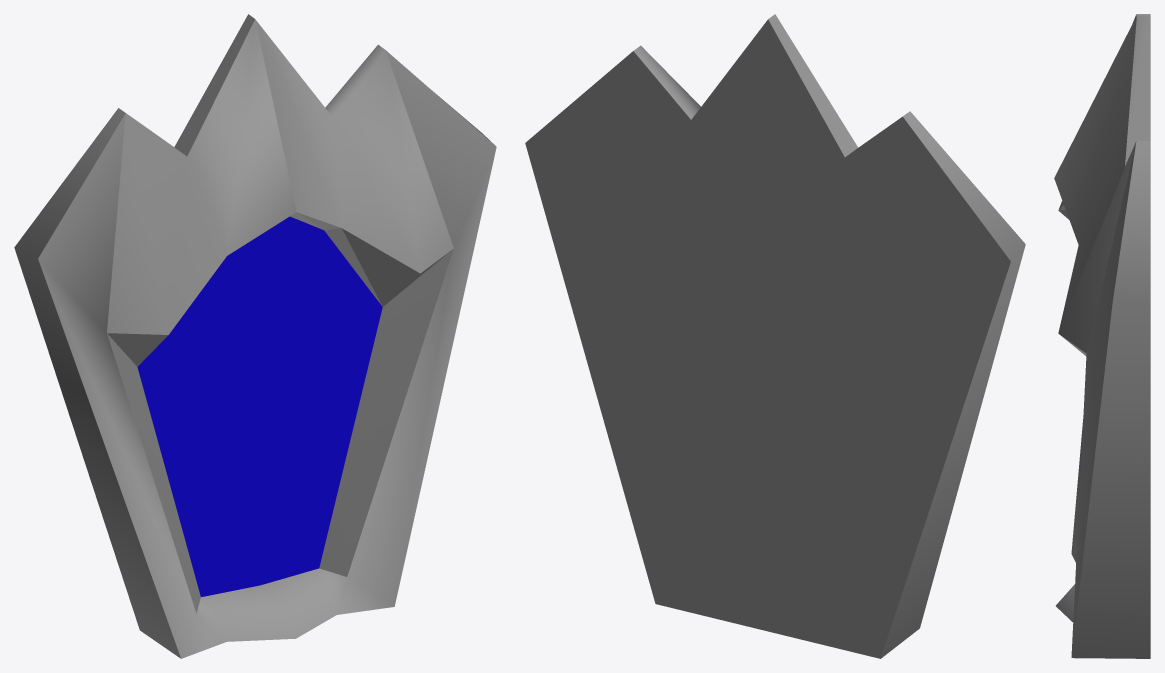
Rendered from MOD_MirrorHigh.FBX.
The picture shows the model from 3 angles, left to right: view 1: azimuth 30°, elevation 25°; view 2: azimuth 150°, elevation 25°; view 3: azimuth 270°, elevation 25°; orthographic projection. The views are drawn at different scales.
Visible parts, largest first — view 1: MOD_MirrorHigh; view 2: MOD_MirrorHigh; view 3: MOD_MirrorHigh.
Part boxes in pixels (<box>): MOD_MirrorHigh: <box>14,14,496,658</box>; MOD_MirrorHigh: <box>525,14,1025,658</box>; MOD_MirrorHigh: <box>1054,14,1150,658</box>.
Size of the model in its own units: 3.57 by 4.3 by 0.637.
